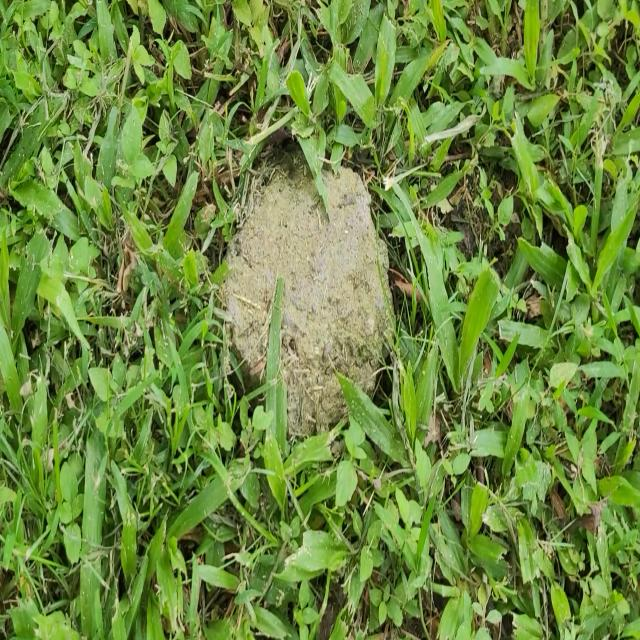grass: (370, 247, 640, 639)
stone: (222, 161, 394, 435)
